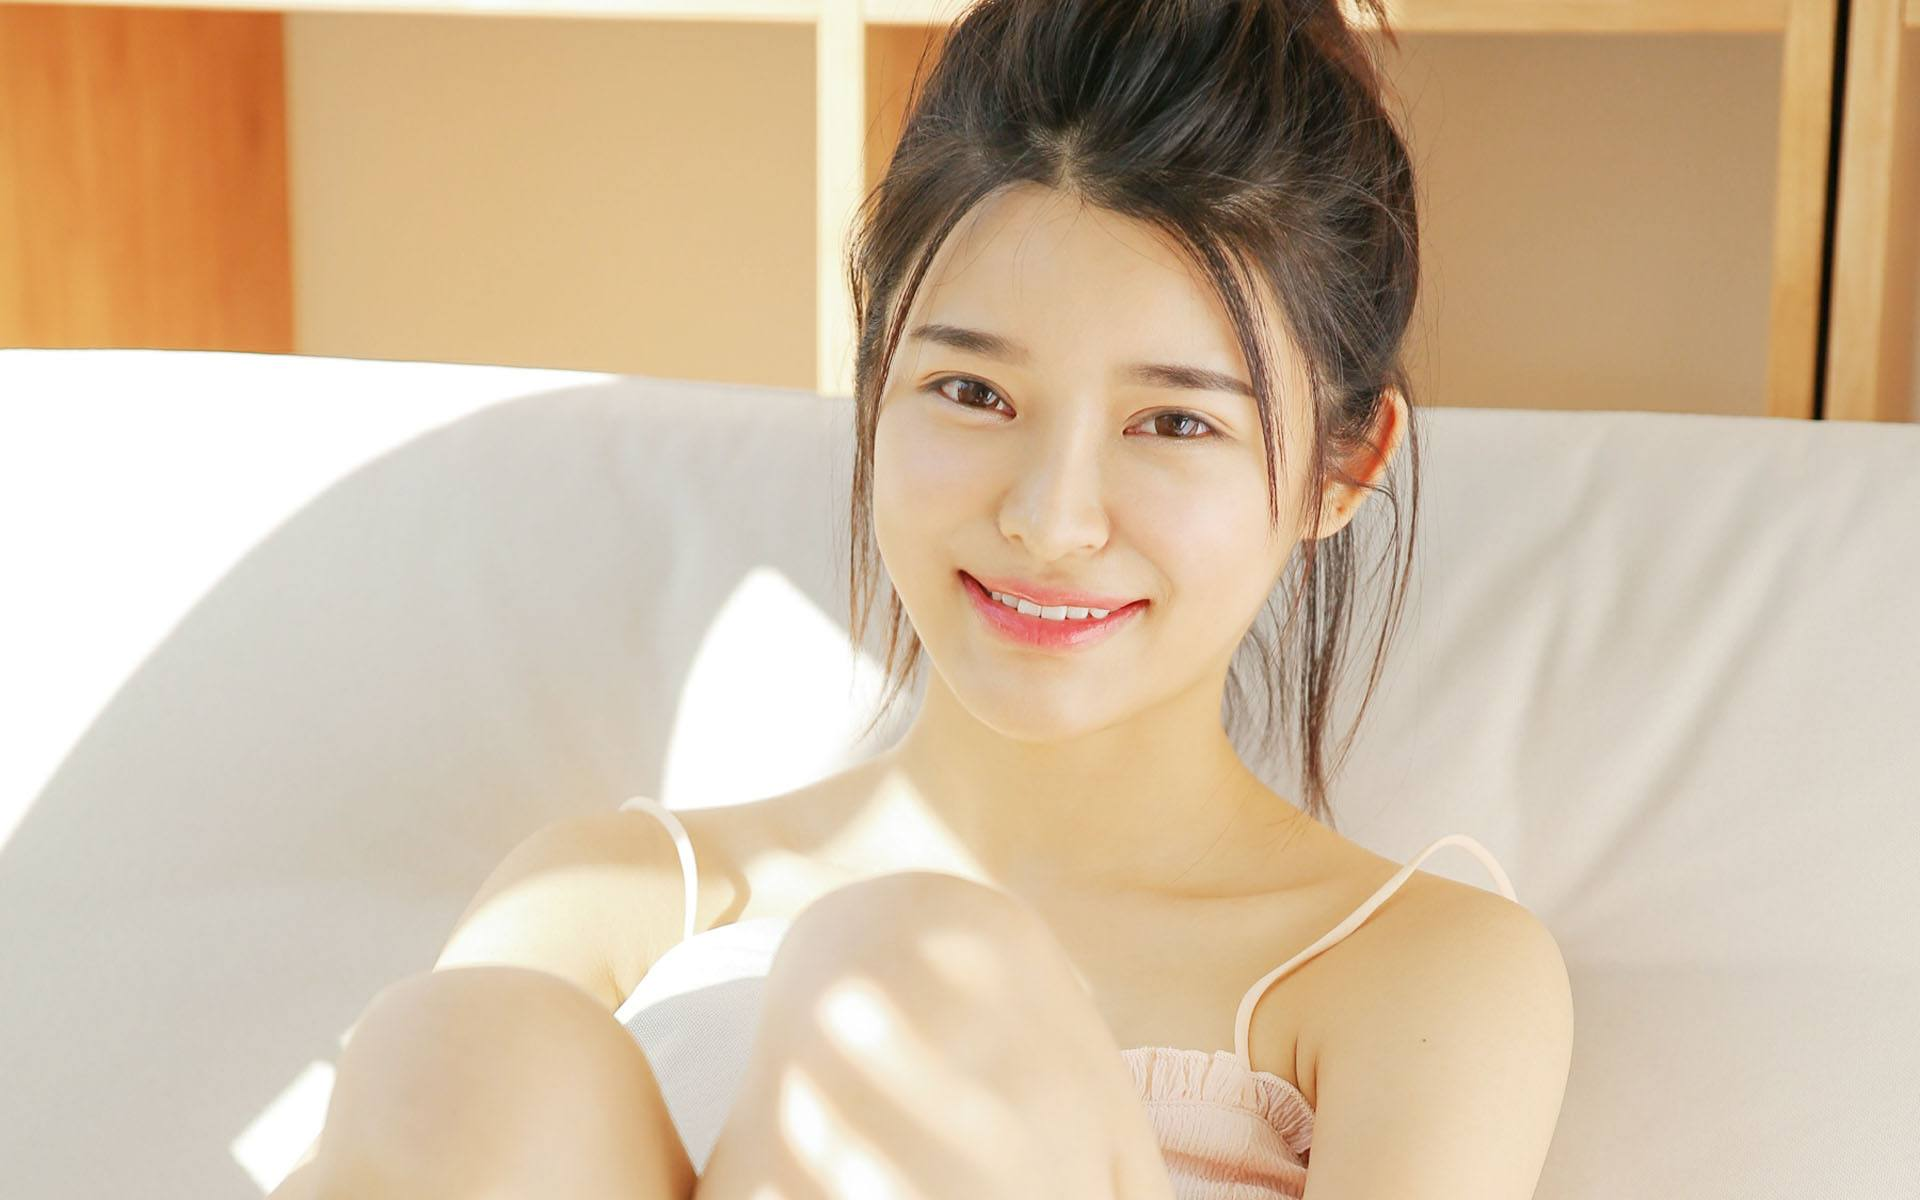person: (679, 20, 1475, 888)
